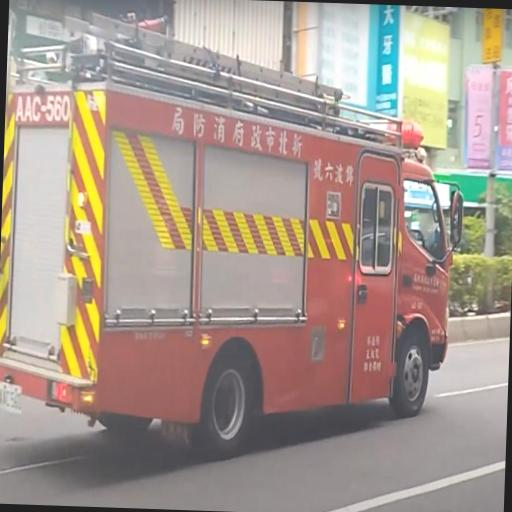fire truck: (0, 14, 464, 458)
